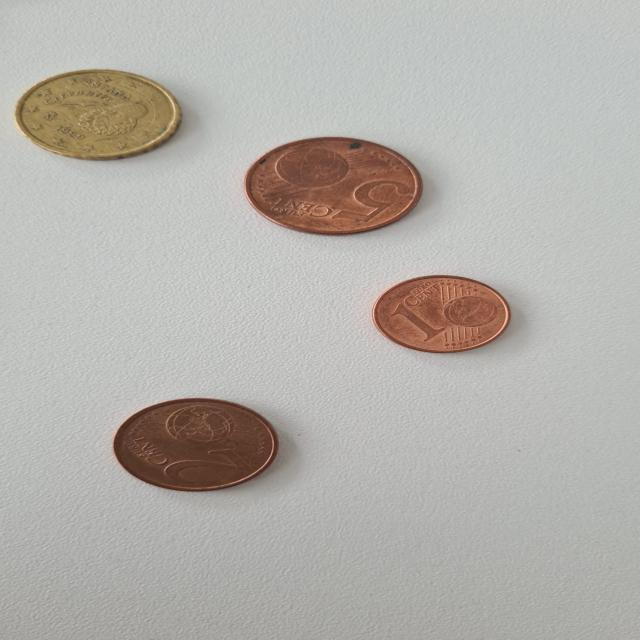1c: (372, 273, 512, 358)
20c: (13, 67, 182, 163)
2c: (111, 396, 277, 493)
5c: (244, 134, 419, 236)
